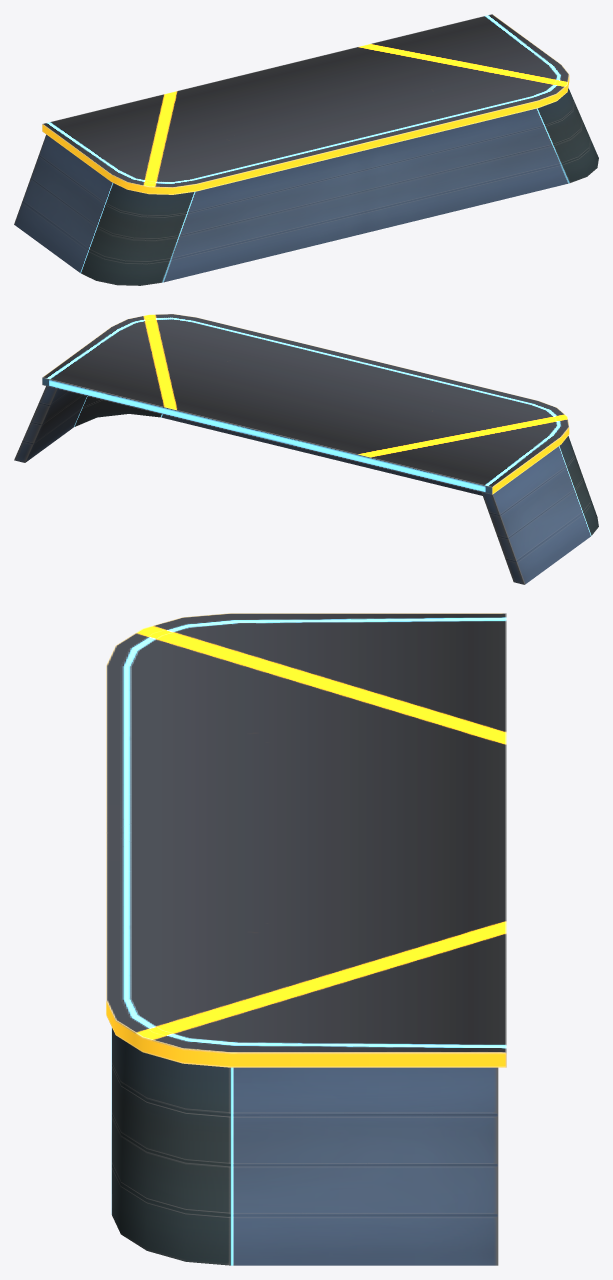
The model's file is Mesa_Loby.fbx.
The picture shows the model from 3 angles, top to bottom: view 1: azimuth 30°, elevation 25°; view 2: azimuth 150°, elevation 25°; view 3: azimuth 270°, elevation 25°; orthographic projection. The views are drawn at different scales.
Parts seen in each view (by area): view 1: Mesa_Loby; view 2: Mesa_Loby; view 3: Mesa_Loby.
Boxes of the visible parts, x1,y1,x2,y2 form: Mesa_Loby: (14,14,598,285); Mesa_Loby: (14,314,598,584); Mesa_Loby: (106,613,506,1265).
Size of the model in its own units: 483 by 82.91 by 164.
